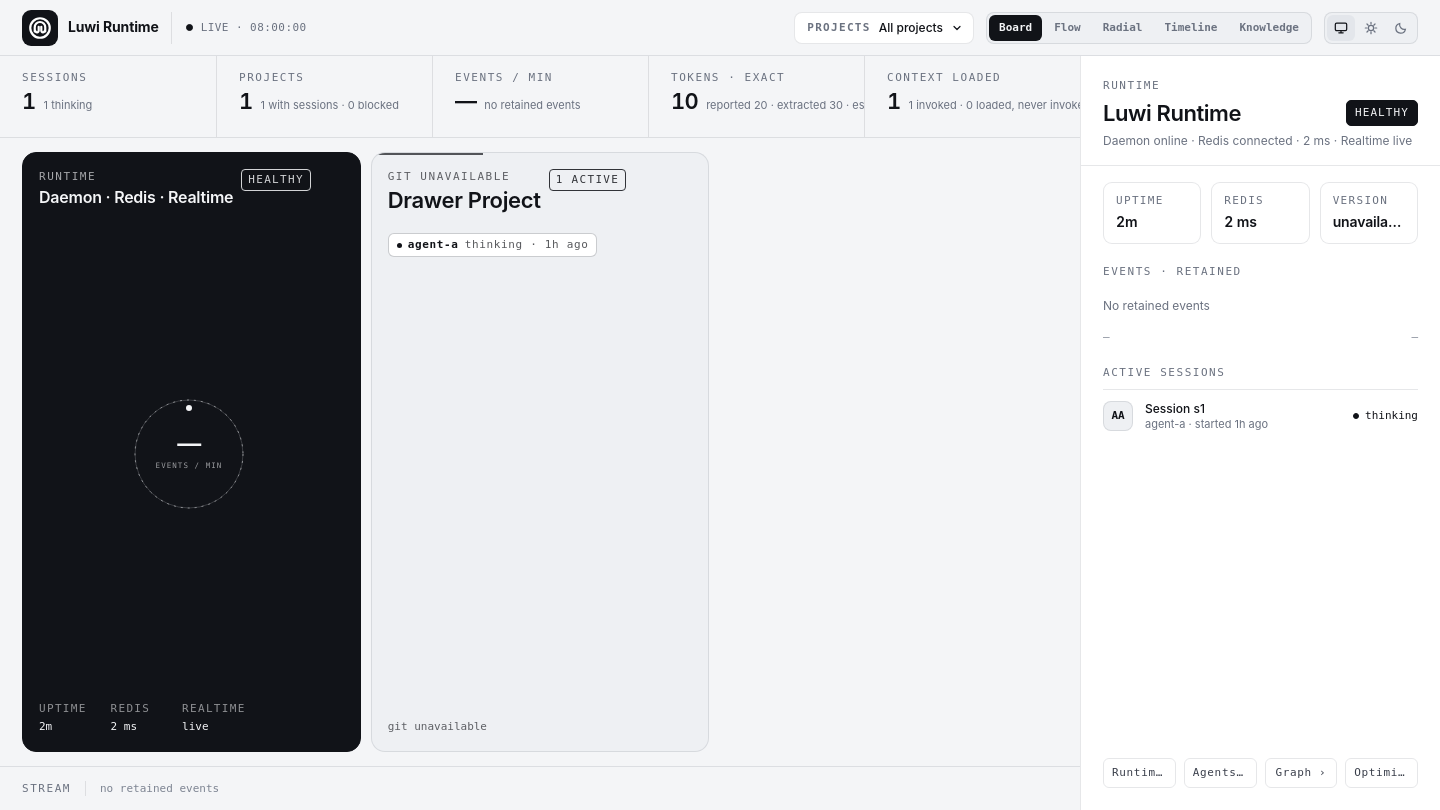
Test case: project evidence drawer › dismisses the inspector before a routed message drawer opens
The image size is (1440, 810).
Click the button with aria-label "Focus session s1": [1260, 416] box [1103,389,1418,443]
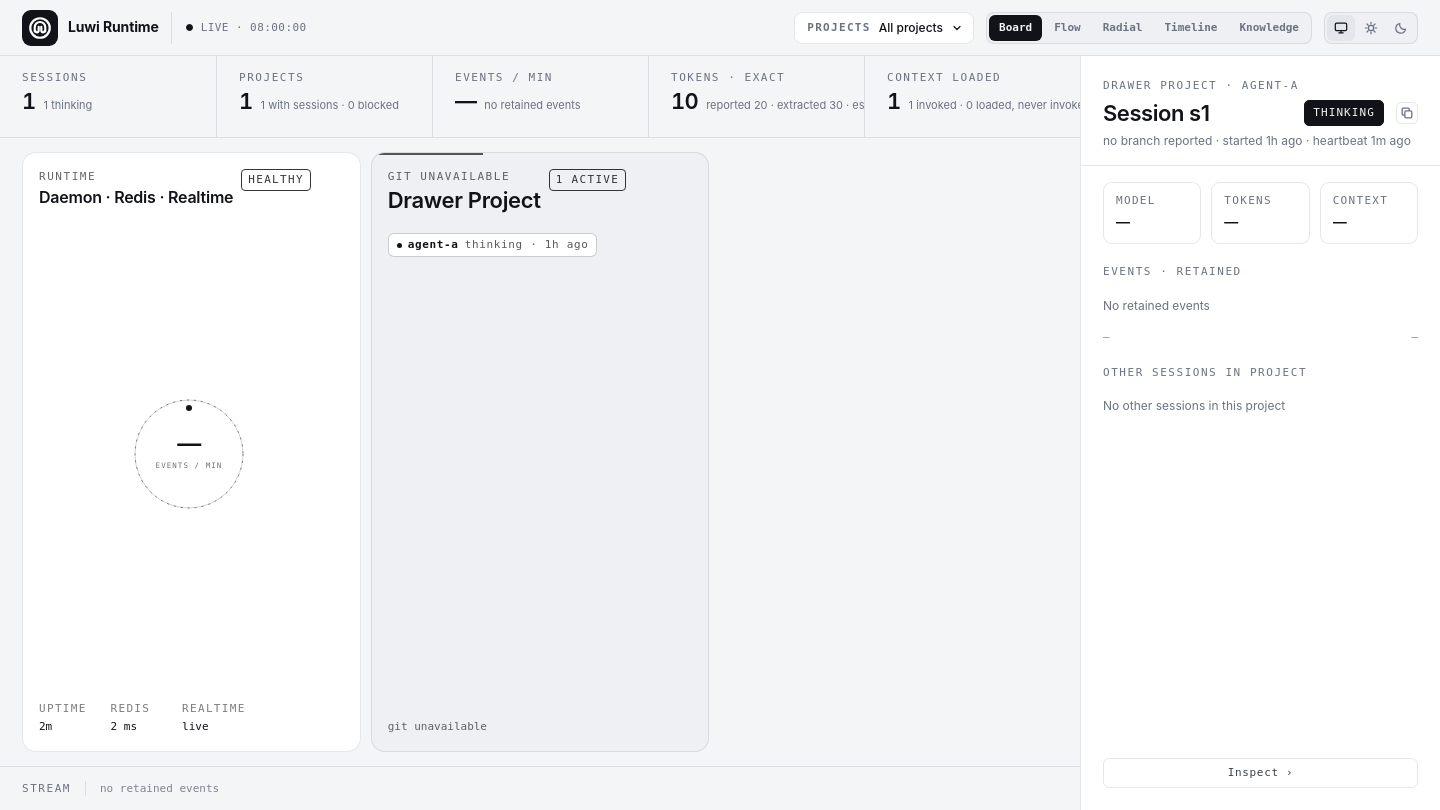
Click the button with aria-label "Inspect session s1": [1260, 773] box [1103,758,1418,788]
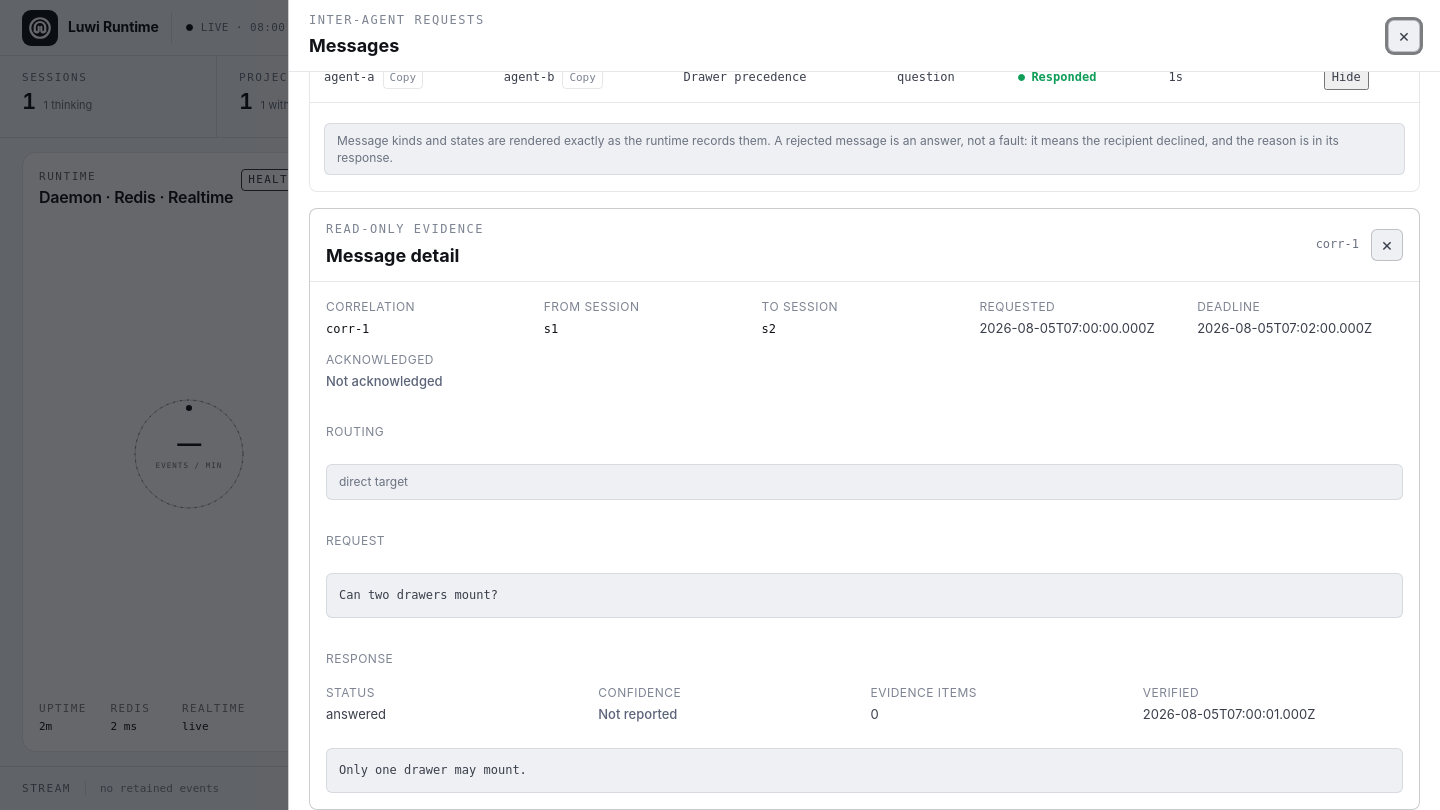
Expected: the number of dialogs is 1
Expected: the element "Message detail" is shown, [309,208,1420,809]
